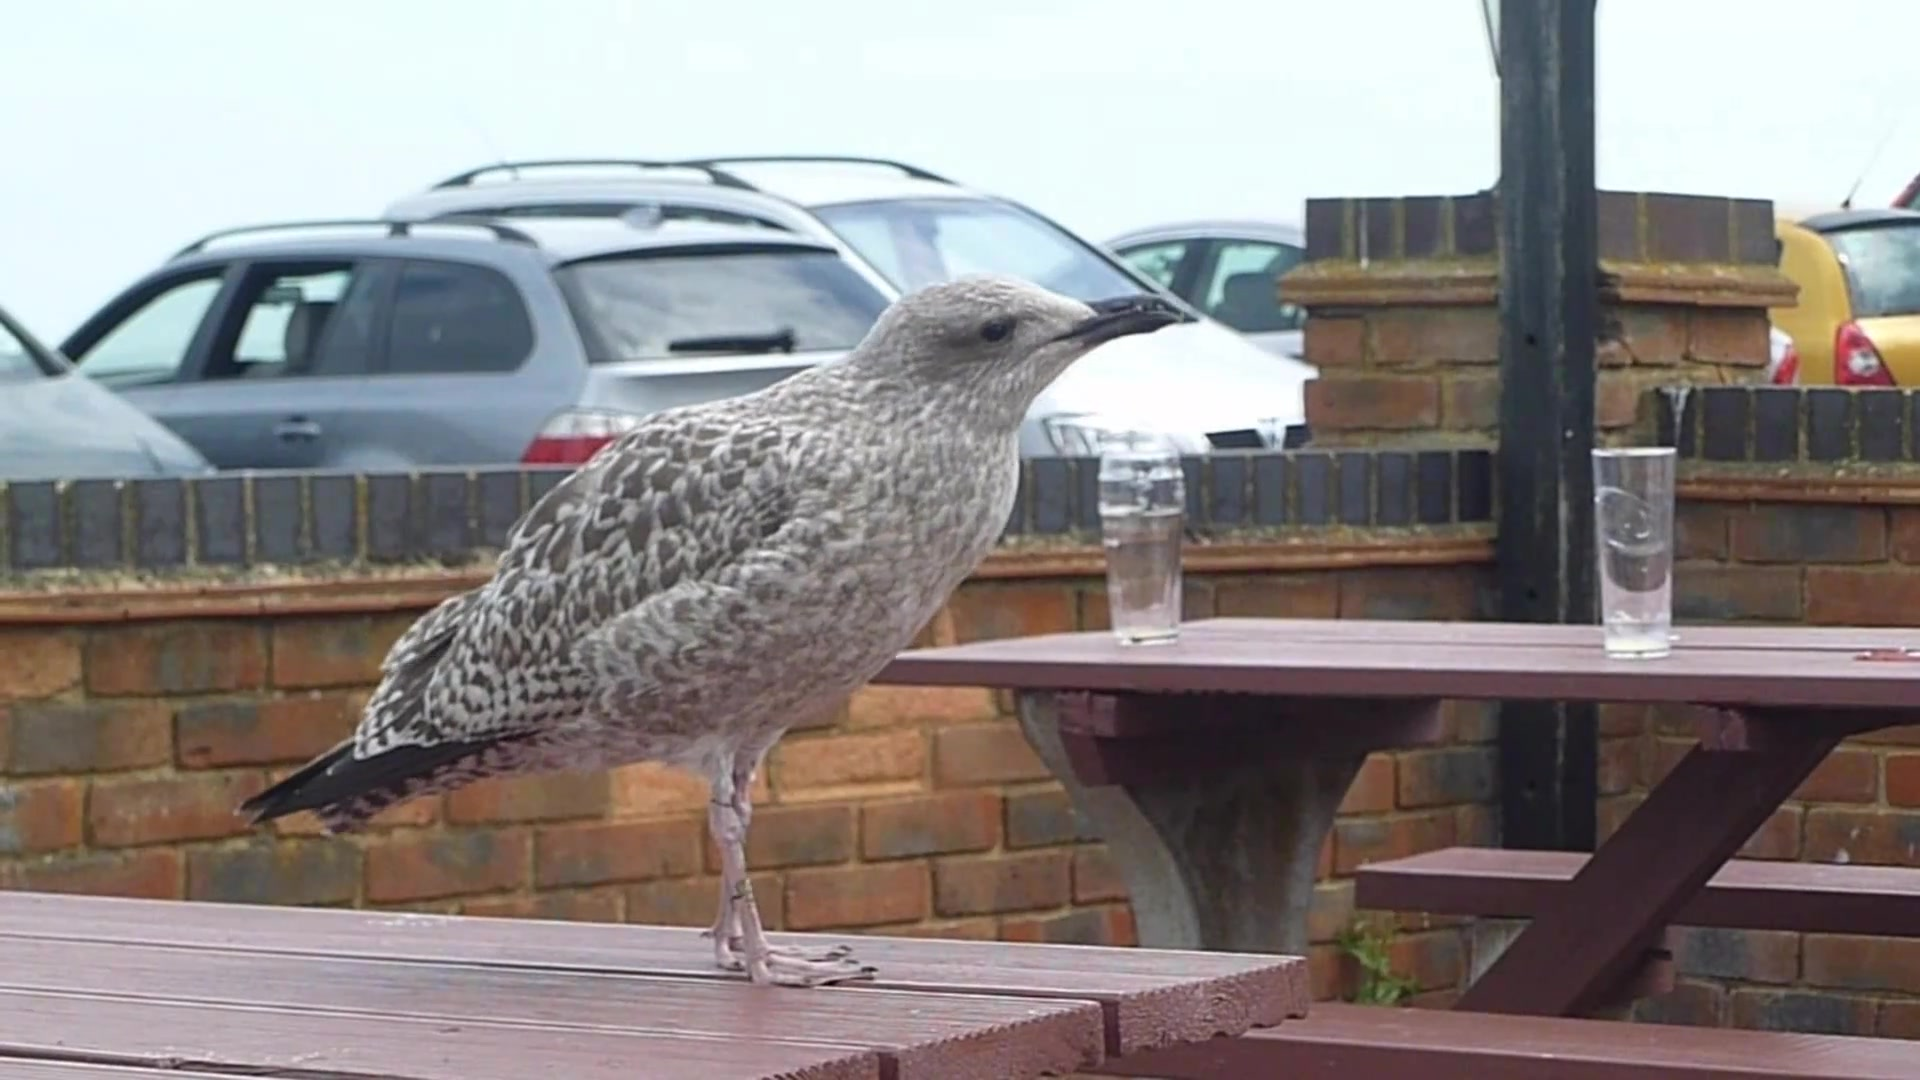bird: (237, 277, 1185, 992)
